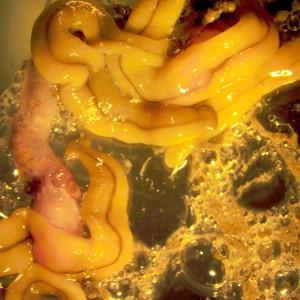earthworms: (22, 9, 287, 261)
